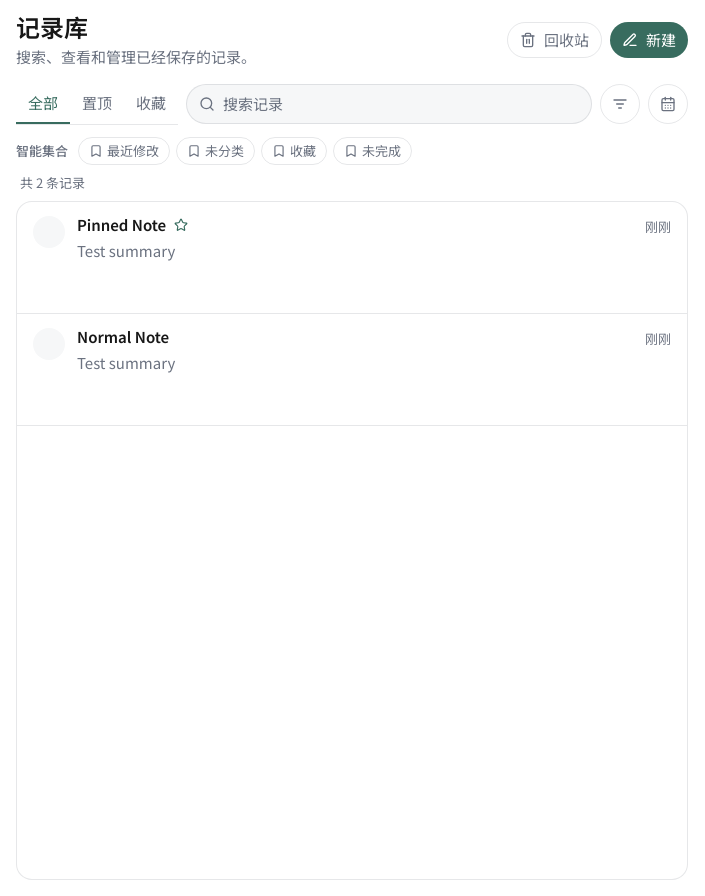
LibraryPage › filters items by pinned tab
Click the tab with test id "library-tab-pinned" at (97, 104), box [70,84,124,124]
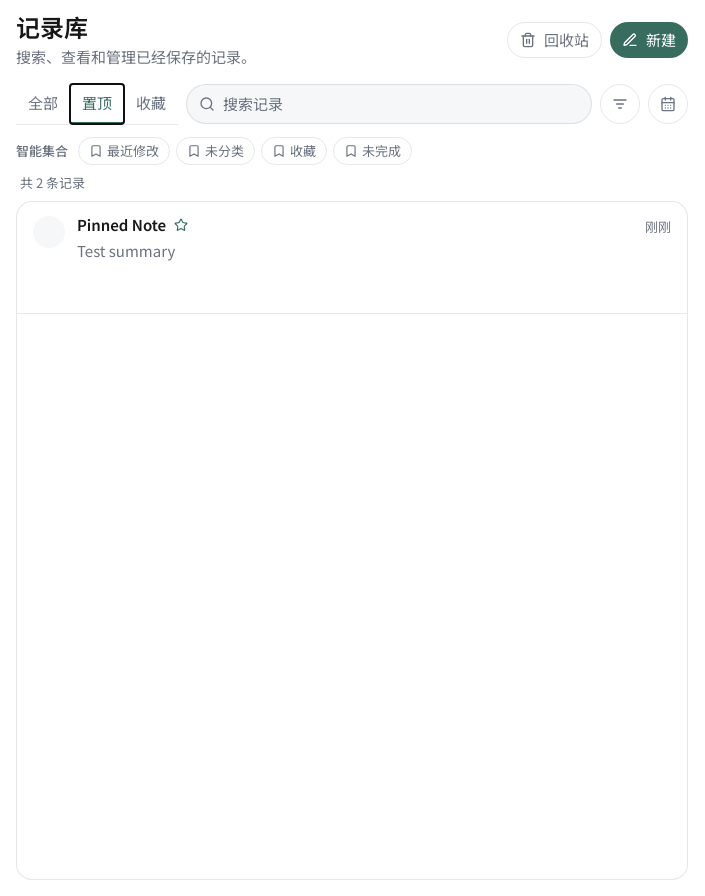
Check: the text "Pinned Note" is shown, box [77,214,166,236]
Check: the button "Normal Note" is gone
